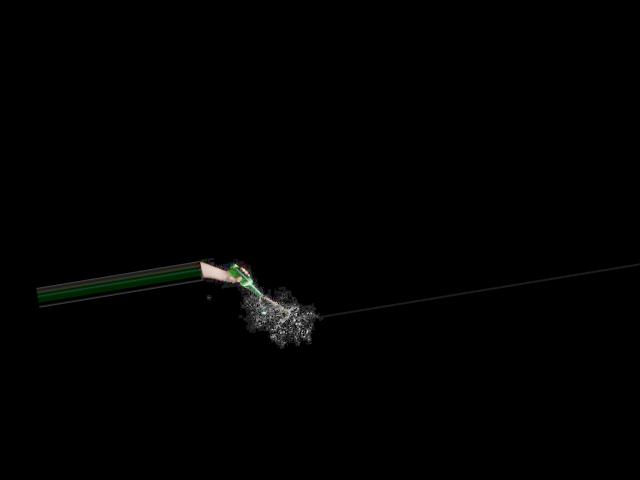beer: (226, 259, 262, 302)
